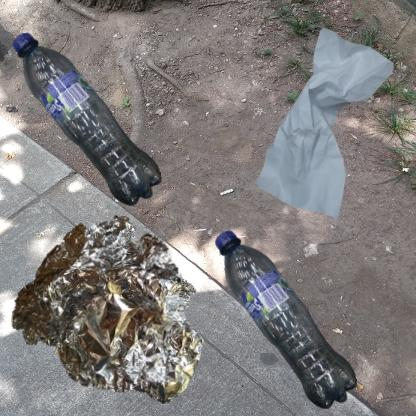aluminio: (10, 213, 206, 404)
botella: (10, 10, 181, 246), (213, 213, 371, 416)
papel: (213, 10, 416, 262)
